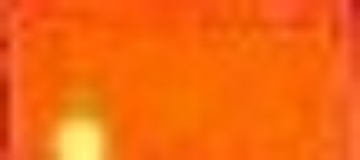Hotspot: (52, 113, 106, 160)
